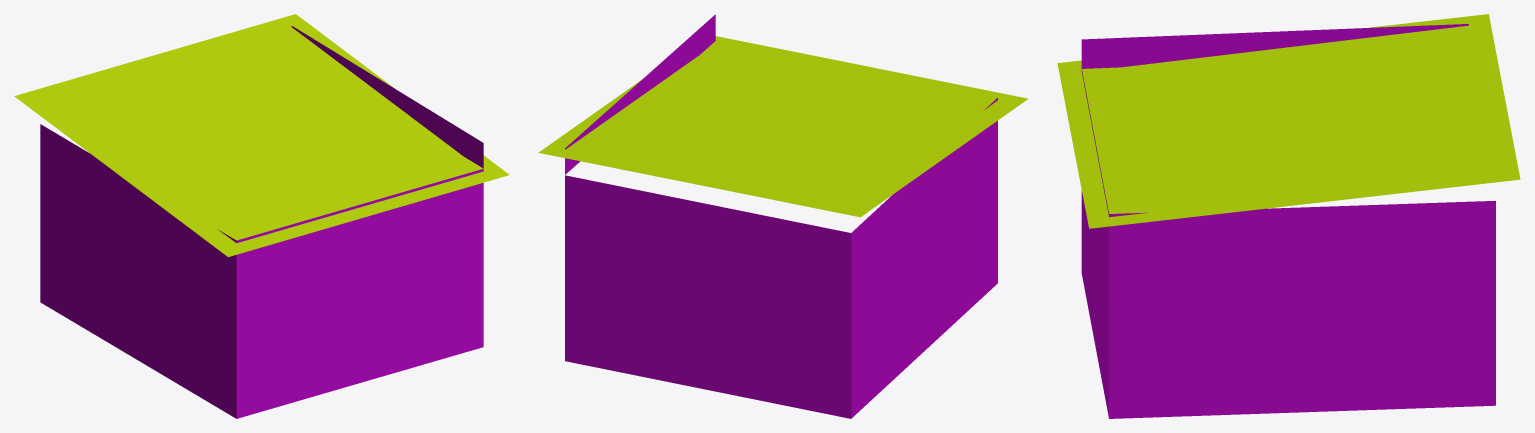
Rendered from vzc_62.glb.
The picture shows the model from 3 angles, left to right: view 1: azimuth 30°, elevation 25°; view 2: azimuth 150°, elevation 25°; view 3: azimuth 270°, elevation 25°; orthographic projection. The views are drawn at different scales.
Parts seen in each view (by area): view 1: vzc_62; view 2: vzc_62; view 3: vzc_62.
Part boxes in pixels (bbox=[...]): vzc_62: bbox=[14, 14, 509, 418]; vzc_62: bbox=[538, 14, 1028, 418]; vzc_62: bbox=[1057, 14, 1520, 418].
Bounding box in the file's own units: 7.86 × 4.76 × 8.53.
